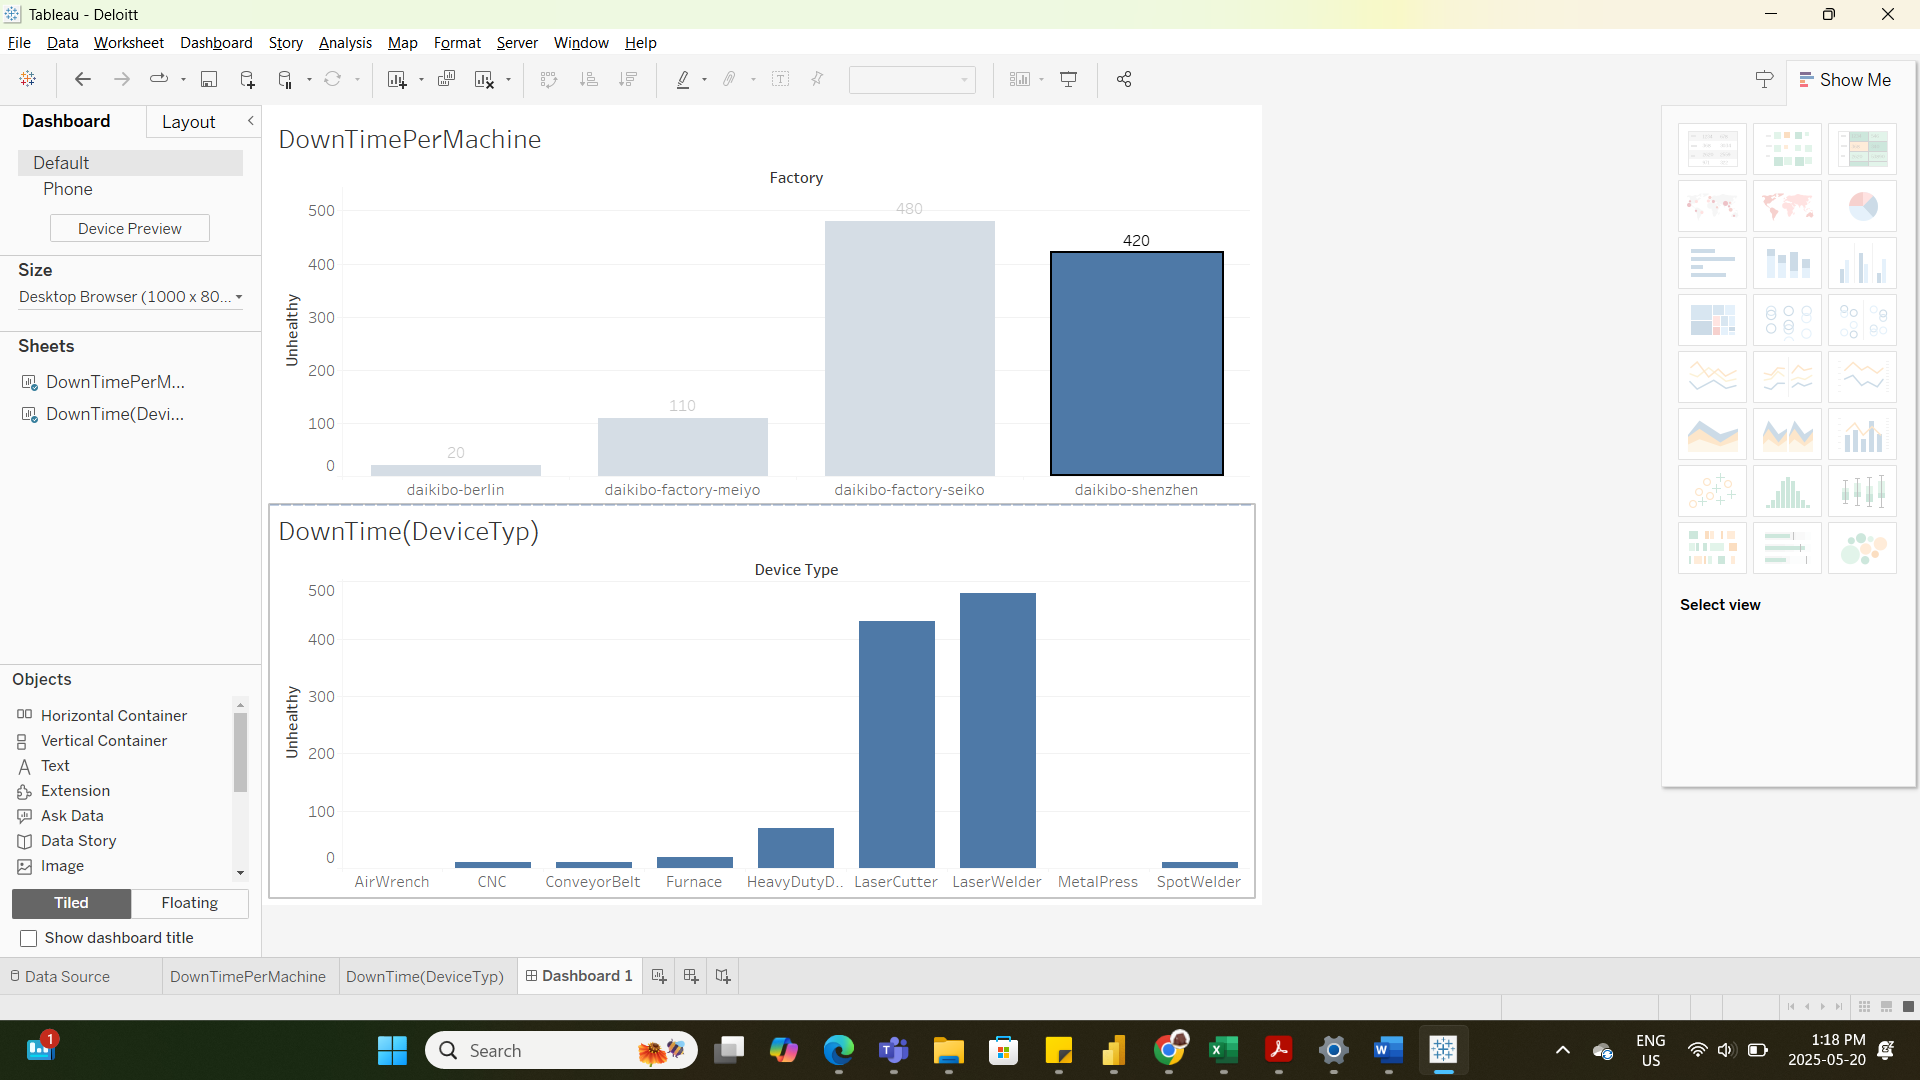

This screenshot's page, from the dashboard's own definition file:
{"tool":"tableau","page":{"name":"Dashboard 1","canvas":[1000,800],"ordinal":0},"visuals":[{"type":"worksheet","title":"DownTimePerMachine","mark":"Bar","rows":["Calculation_3318027037427556352"],"cols":["factory"],"box":[8,8,984,392]},{"type":"worksheet","title":"DownTime(DeviceTyp)","mark":"Automatic","rows":["Calculation_3318027037427556352"],"cols":["deviceType"],"box":[8,400,984,392]}]}

Visuals, with their boxes on the page's 1000x800 design canvas (x1, y1, x2, y2). These are canvas units, not pixel positions in the 1920x1080 screenshot, which may show the page scaled, cropped or inside an application window:
"DownTimePerMachine" worksheet (Bar marks): BBox(8, 8, 992, 400)
"DownTime(DeviceTyp)" worksheet: BBox(8, 400, 992, 792)
